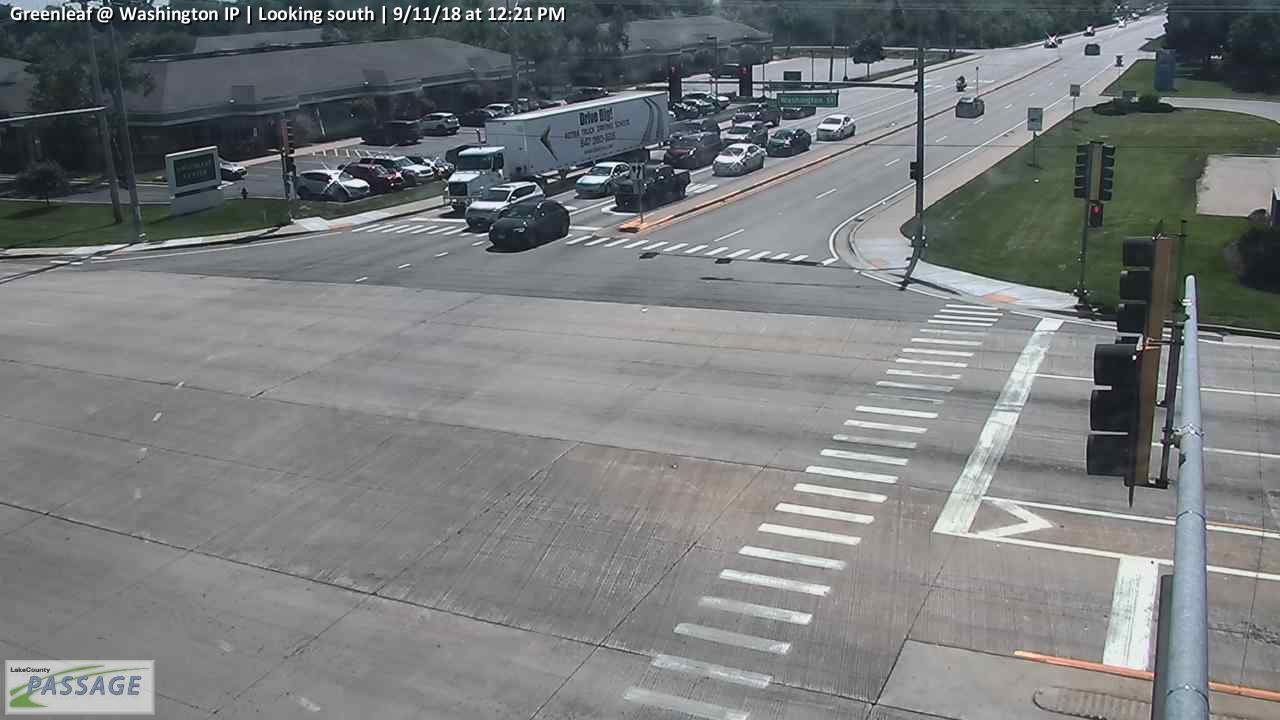SUV: (464, 181, 545, 231), (358, 151, 435, 185), (297, 169, 370, 200), (664, 131, 721, 170), (336, 163, 403, 192), (723, 121, 768, 146), (415, 111, 460, 134)
Sedan: (489, 199, 570, 251), (575, 161, 631, 198), (712, 142, 766, 176), (767, 127, 812, 157), (731, 103, 781, 126), (816, 113, 857, 141), (954, 96, 985, 117), (1085, 42, 1100, 55)
Truck: (445, 91, 670, 209), (617, 162, 691, 210)
